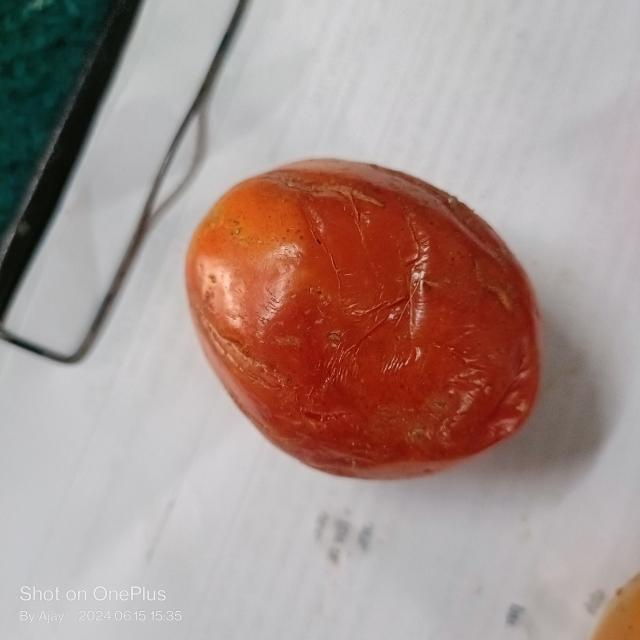Botrytis: (327, 330, 343, 346), (315, 239, 322, 245)
